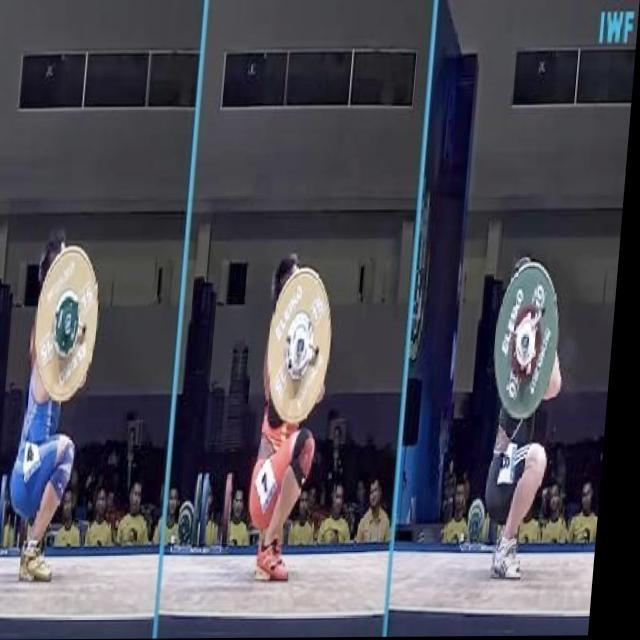barbell: (32, 243, 119, 407), (263, 264, 346, 432), (492, 259, 566, 423)
